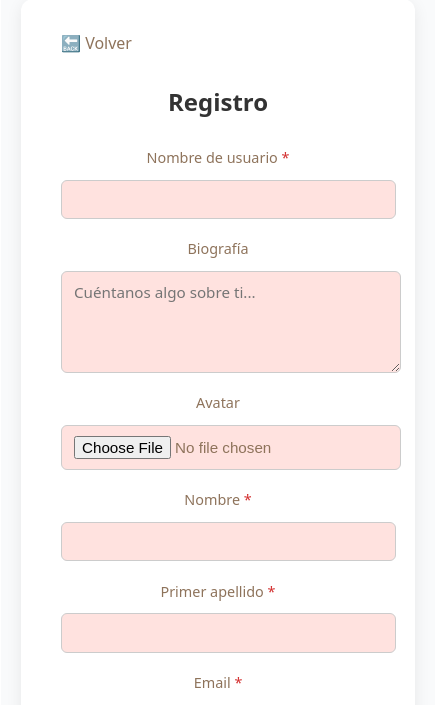
Test: RegistrationPage Component › debería deshabilitar campos y botón mientras está cargando
The width and height of the screenshot is (437, 705).
Type "testuser" into the field named "userName" below "Nombre de usuario".
click(229, 200); type("testuser")  # box [61,180,396,219]
Type "Test" into the 2nd field named "name".
click(229, 542); type("Test")  # box [61,522,396,561]
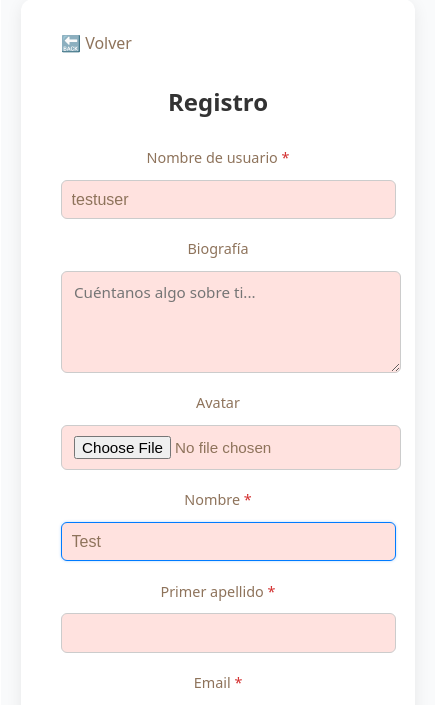
Type "User" into the field named "firstSurname" below "Primer apellido".
click(229, 633); type("User")  # box [61,613,396,653]
(page scrolled)
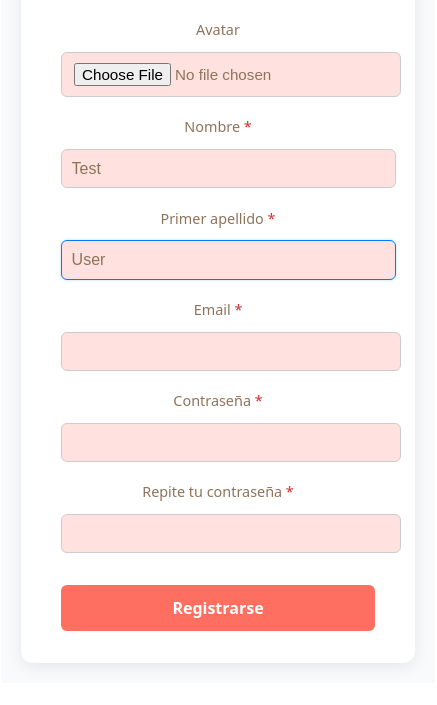
Type "test@example.com" into the field named "email" below "Email".
click(231, 351); type("test@example.com")  # box [61,332,401,371]
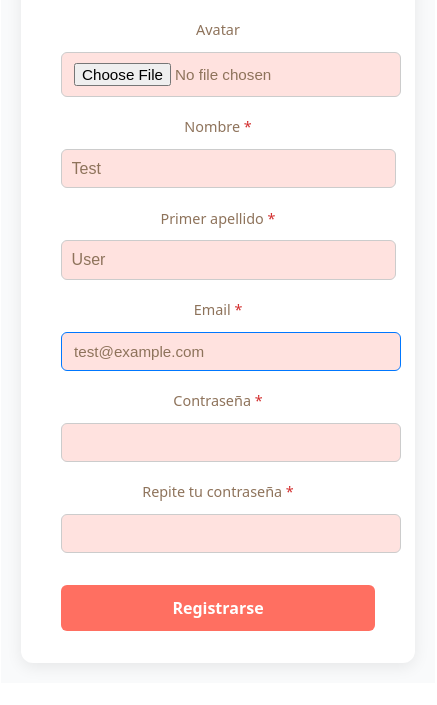
Type "Password123!" into the 1st password field.
click(231, 442); type("Password123!")  # box [61,422,401,462]
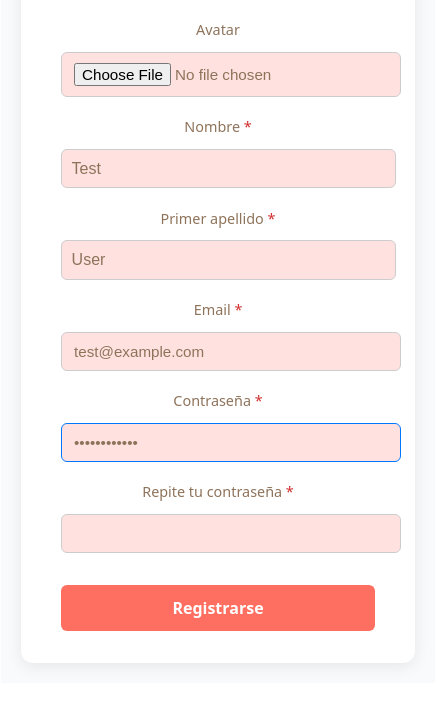
Type "Password123!" into the password field below "Repite tu contraseña".
click(231, 533); type("Password123!")  # box [61,514,401,552]
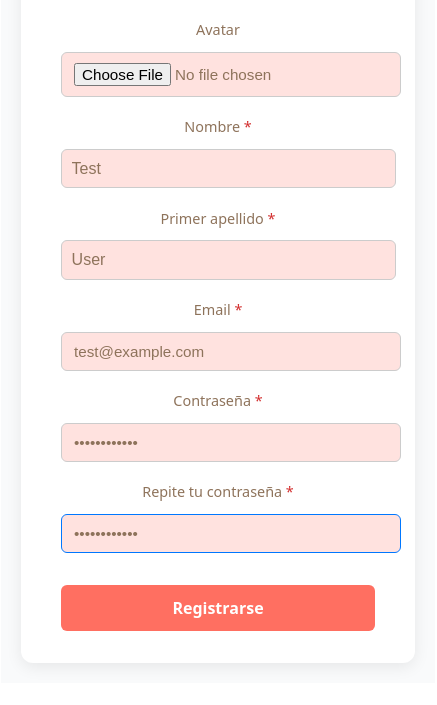
Click the button "Registrarse".
click(218, 608)  # box [61,584,375,630]
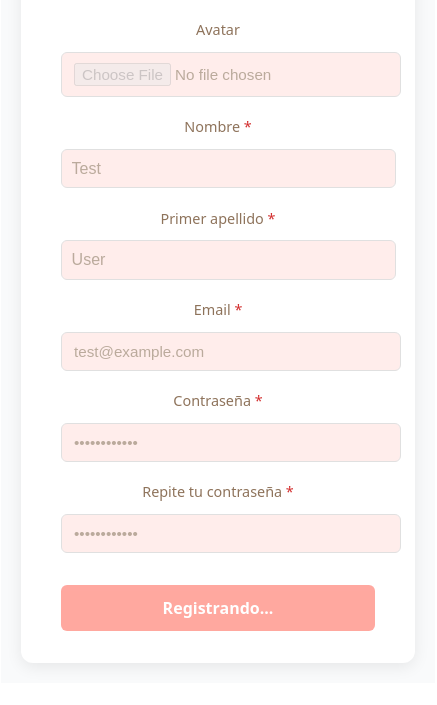
Result: the button "Registrando..." is disabled at [61,584,375,630]
